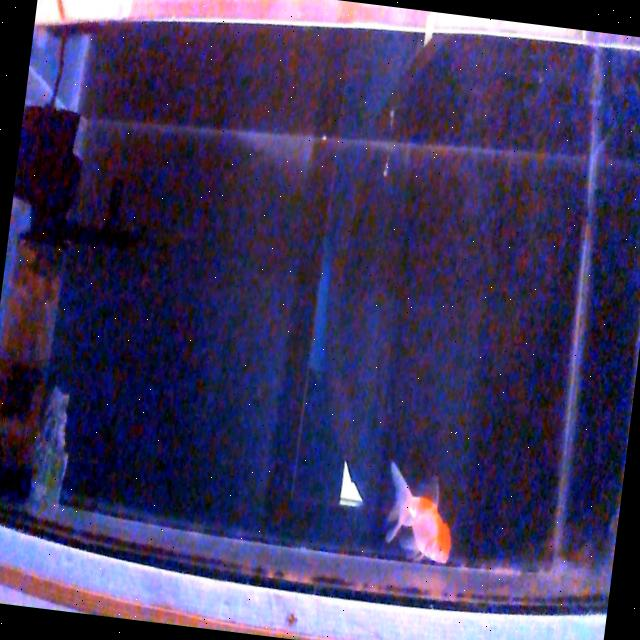fish: (376, 459, 459, 567)
